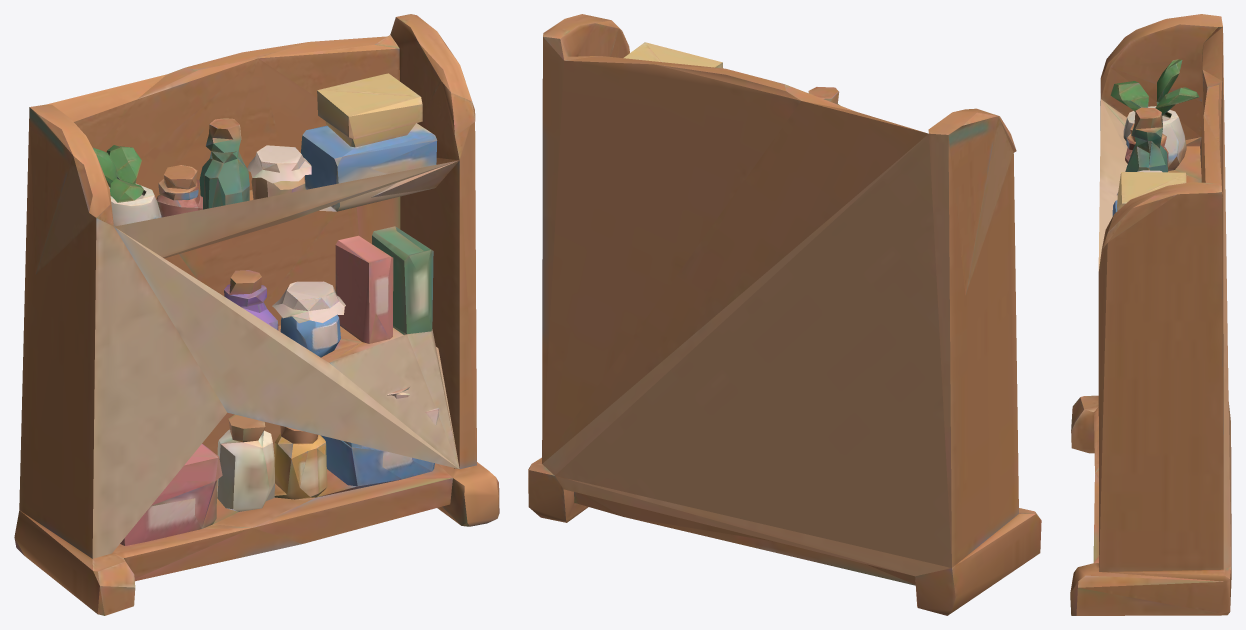
The model's file is shop-wall-shelf.glb.
The picture shows the model from 3 angles, left to right: view 1: azimuth 30°, elevation 25°; view 2: azimuth 150°, elevation 25°; view 3: azimuth 270°, elevation 25°; orthographic projection. The views are drawn at different scales.
Parts seen in each view (by area): view 1: shop-wall-shelf-fit; view 2: shop-wall-shelf-fit; view 3: shop-wall-shelf-fit.
Part boxes in pixels (x1,y1,x2,y2): shop-wall-shelf-fit: (14, 14, 499, 615); shop-wall-shelf-fit: (528, 14, 1041, 615); shop-wall-shelf-fit: (1070, 14, 1231, 615).
Size of the model in its own units: 2.04 by 2.2 by 0.7517.
1 material, 1 textured.
